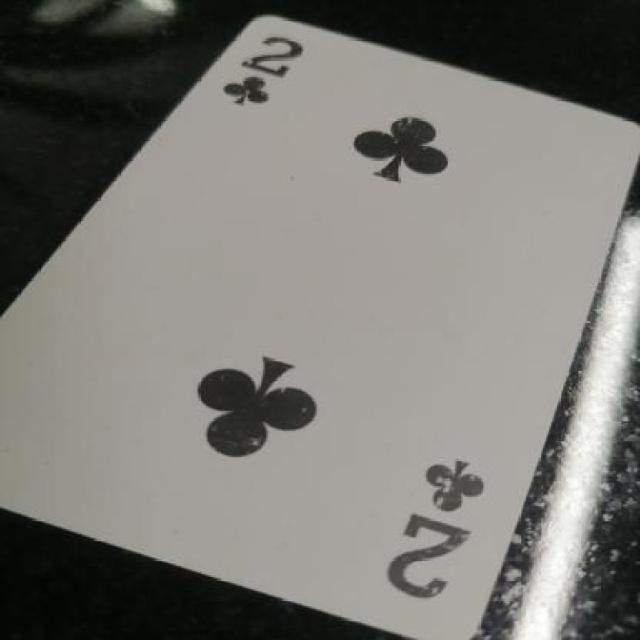2C: (378, 437, 512, 608), (226, 27, 312, 125)
